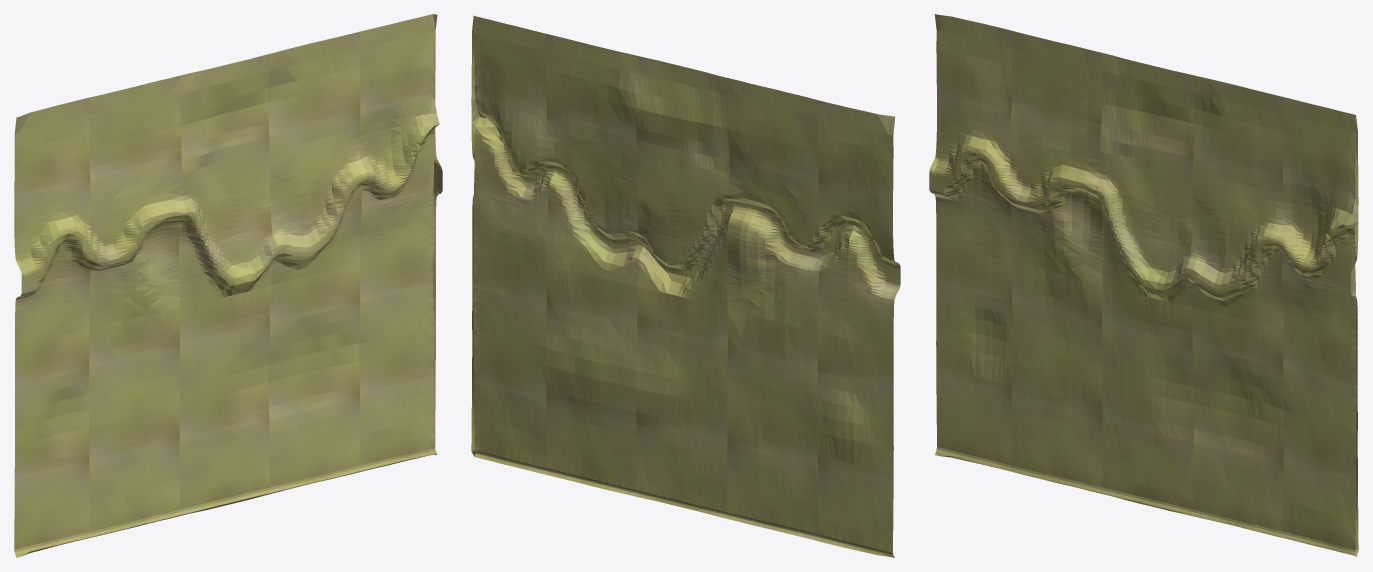
The model's file is terrain.dae.
3 renders of one model, left to right at view 1: azimuth 30°, elevation 25°; view 2: azimuth 150°, elevation 25°; view 3: azimuth 330°, elevation 25°, orthographic.
Visible parts, largest first — view 1: Terrain; view 2: Terrain; view 3: Terrain.
Boxes of the visible parts, x1,y1,x2,y2 form: Terrain: (14, 14, 442, 557); Terrain: (471, 15, 900, 557); Terrain: (929, 14, 1358, 557).
Size of the model in its own units: 100 by 4.16 by 100.
Materials: 1 (1 with a texture image).
